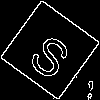S: (25, 25, 81, 82)
